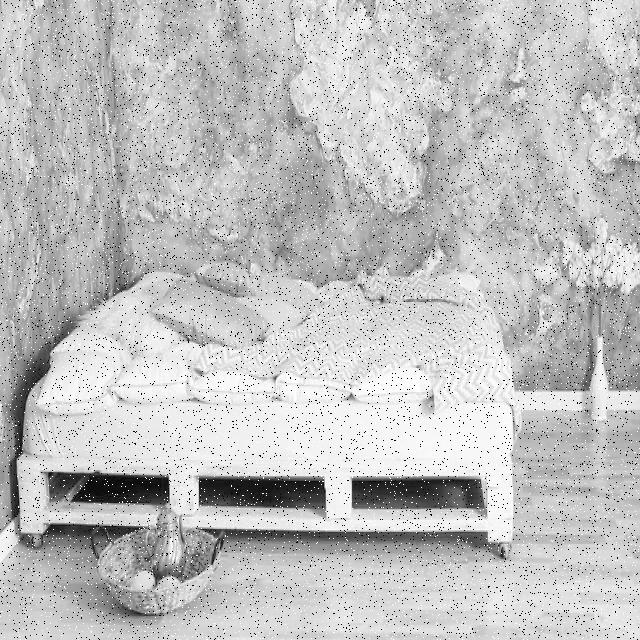bed: (41, 249, 527, 453)
